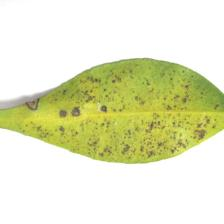canker: (17, 80, 209, 144)
